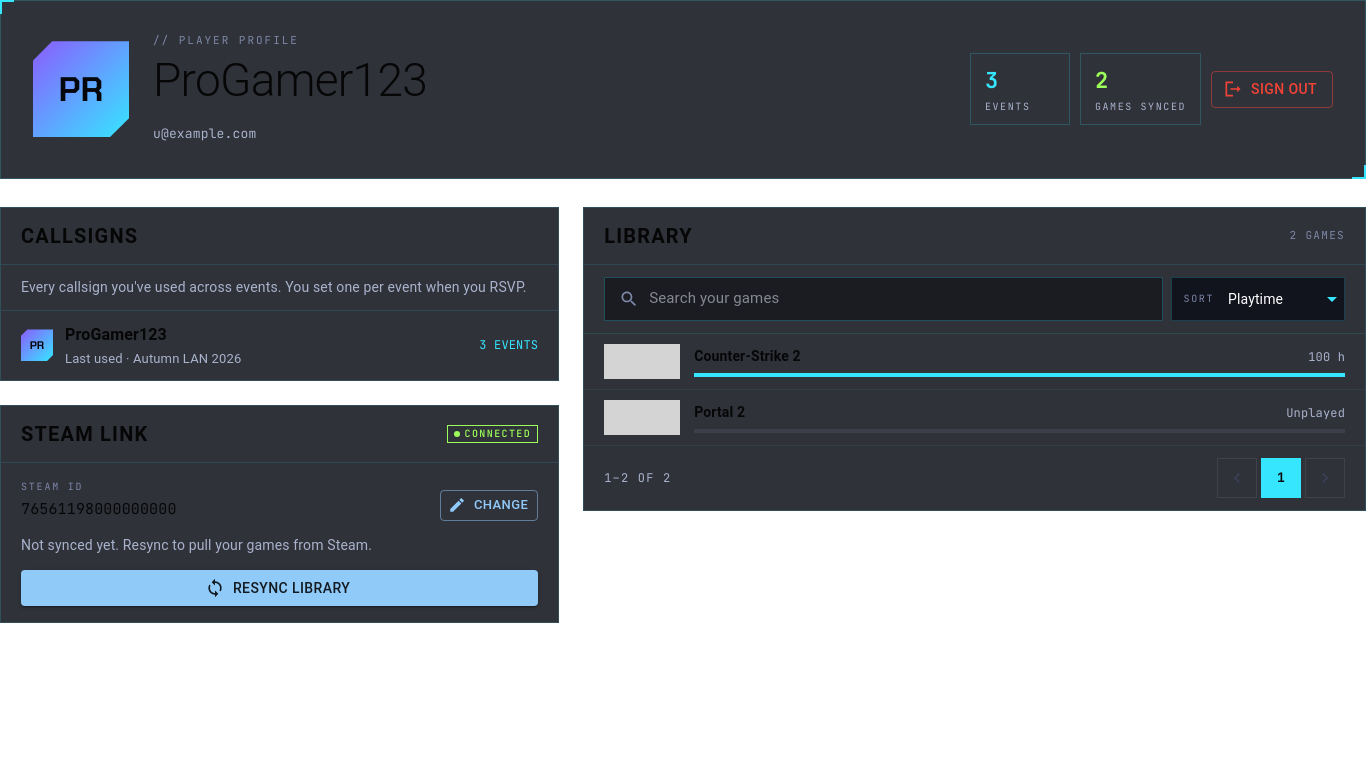
Scenario: Account - Resync library button › shows an error on failure
Click the button "Resync library": coordinates (280, 588) [21,570,538,606]
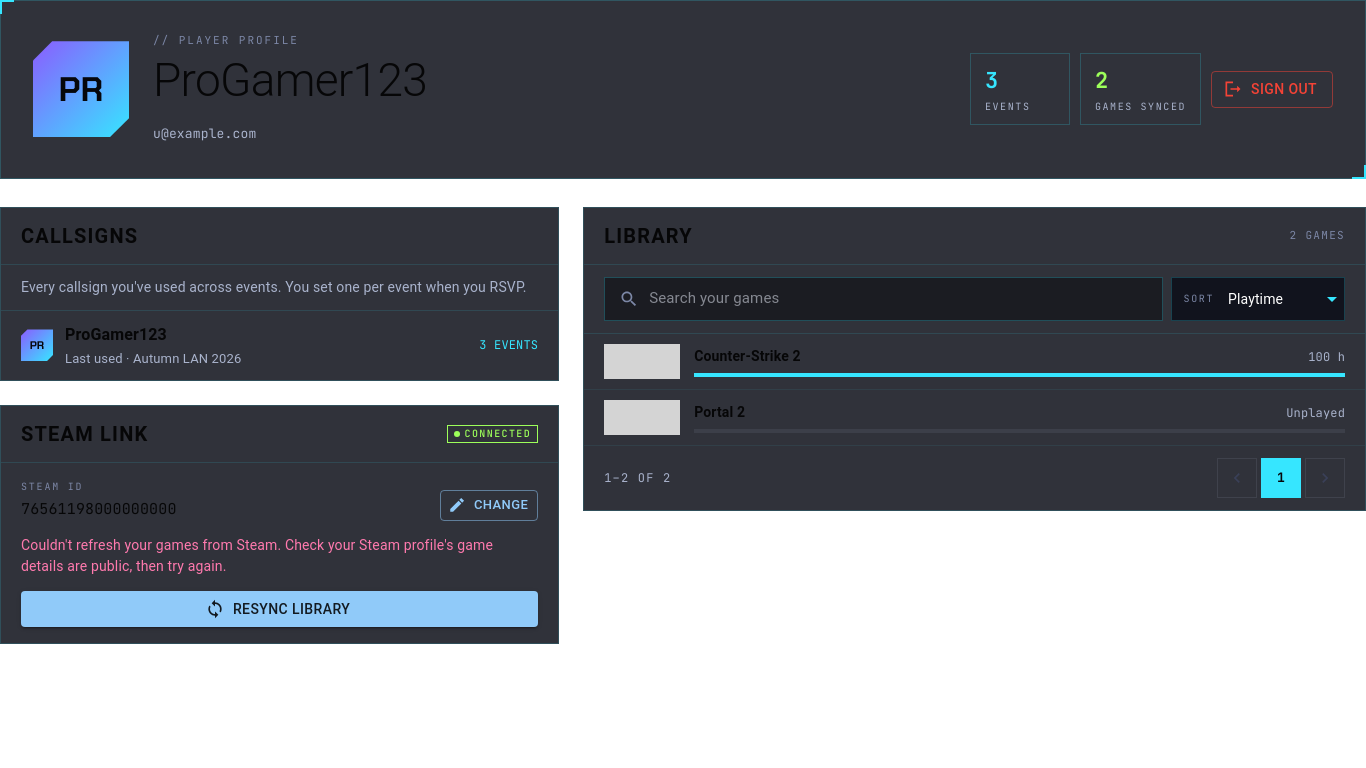
Expected: the button "Resync library" is enabled, [21,591,538,627]
Expected: the text "Couldn't refresh your games from Steam" is shown, [21,537,493,574]
